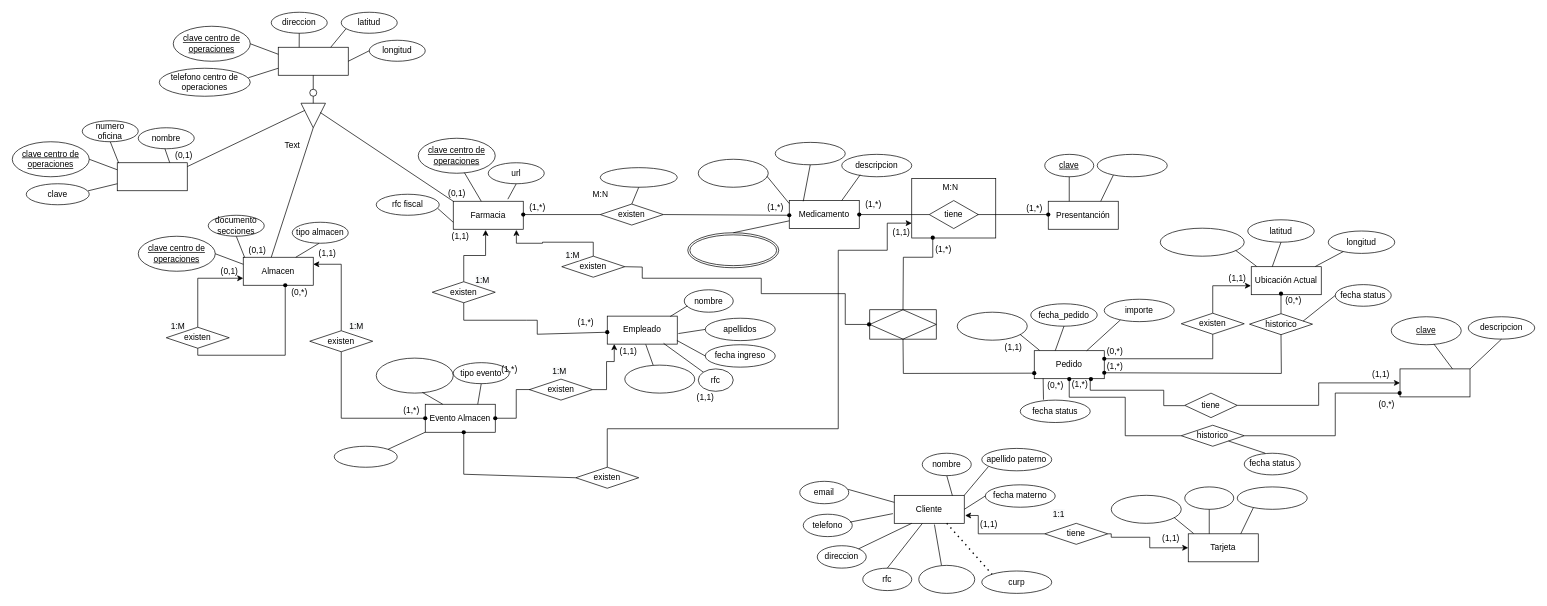
The diagram is 1547 pixels wide and 606 high, and some of its shapes have lost their labels. The shapes that lost their labels are listed below. From the top down, each one's centre as x and y in pixels, then its label:
point 313,61: Centro de Operaciones
point 733,173: Medicamento ID
point 810,153: Sustancia activa
point 1132,165: unidades
point 152,176: Oficina
point 638,177: Numero unidades
point 733,250: Lista nombres de medicamento
point 1202,241: ubicacion actual id
point 902,324: contiene
point 992,326: folio
point 414,375: Evento Almacen ID
point 659,378: empleado id
point 1434,382: Status Pedido
point 365,456: fecha evento
point 1146,509: numero tarjeta
point 1209,497: anio expiracion
point 1272,497: mes expiracion
point 946,579: cliente id
